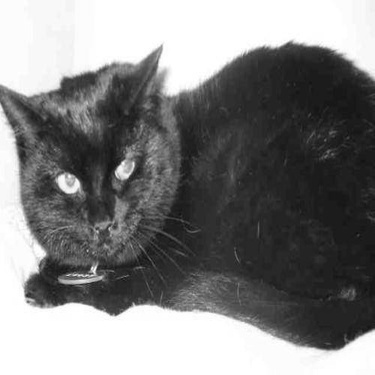cat: (2, 45, 373, 348)
